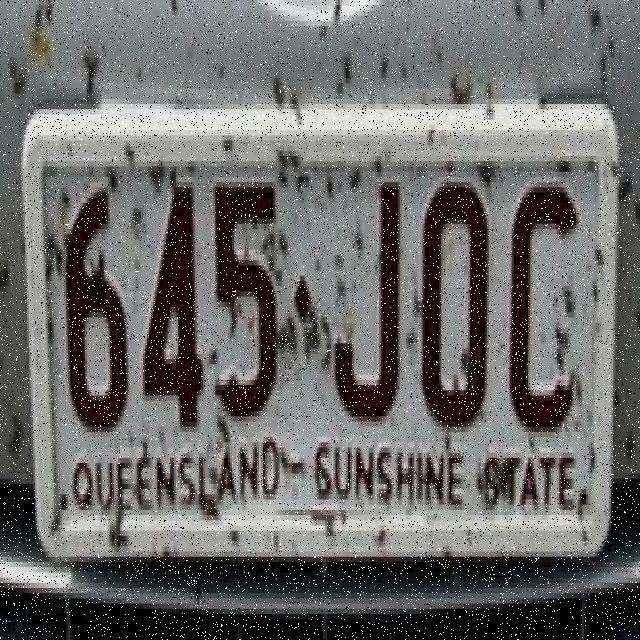licenseplate: (13, 52, 618, 587)
